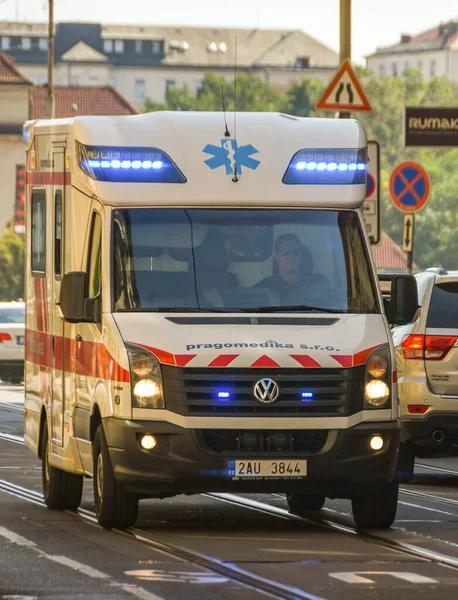ambulance_on: (21, 110, 402, 532)
